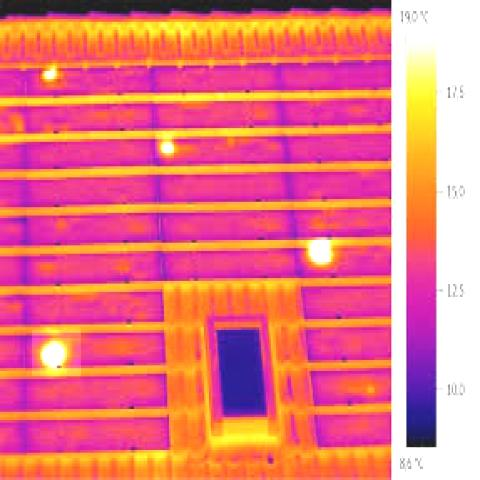fault: (32, 330, 81, 376), (298, 230, 337, 270), (39, 62, 61, 85), (155, 135, 174, 158)
